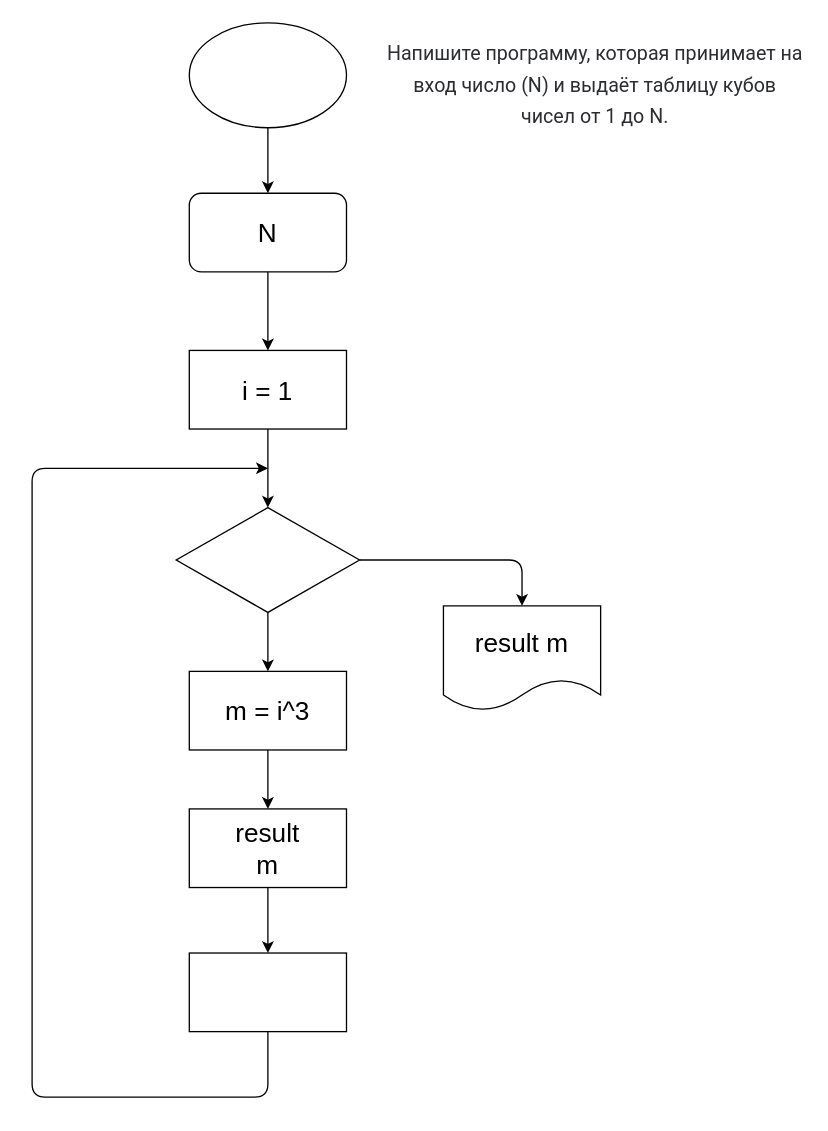
Some shapes in this 828 by 1131 pixel diagram are drawn without their labels. The shapes that lost their labels are listed below. From the top down, each one's centre as x and y in pixels, then its label:
At [267,75]: "start".
At [267,559]: "i > N".
At [267,992]: "i++".
